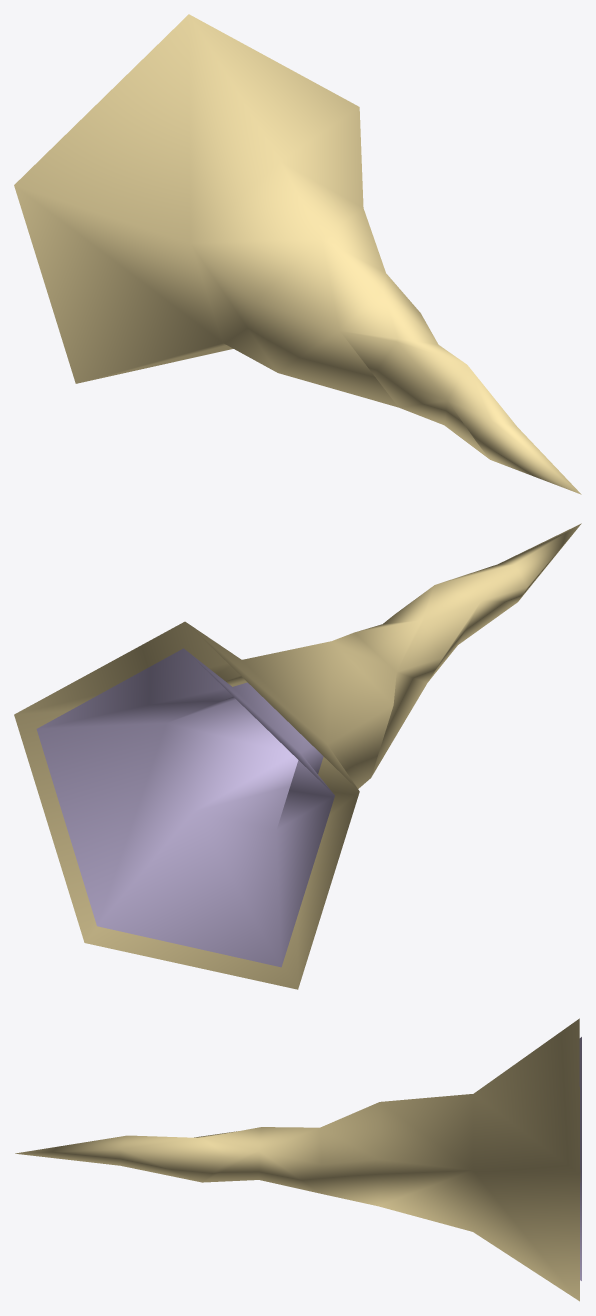
3 views of the same model, one above another, from view 1: azimuth 30°, elevation 25°; view 2: azimuth 150°, elevation 25°; view 3: azimuth 270°, elevation 25° (orthographic). The views are drawn at different scales.
Parts seen in each view (by area): view 1: Object43; view 2: Object43; view 3: Object43.
Boxes of the visible parts, bbox=[...] form: Object43: bbox=[14, 14, 581, 494]; Object43: bbox=[14, 523, 581, 989]; Object43: bbox=[15, 1018, 581, 1301].
Bounding box in the file's own units: 22017 × 21083 × 43759.
